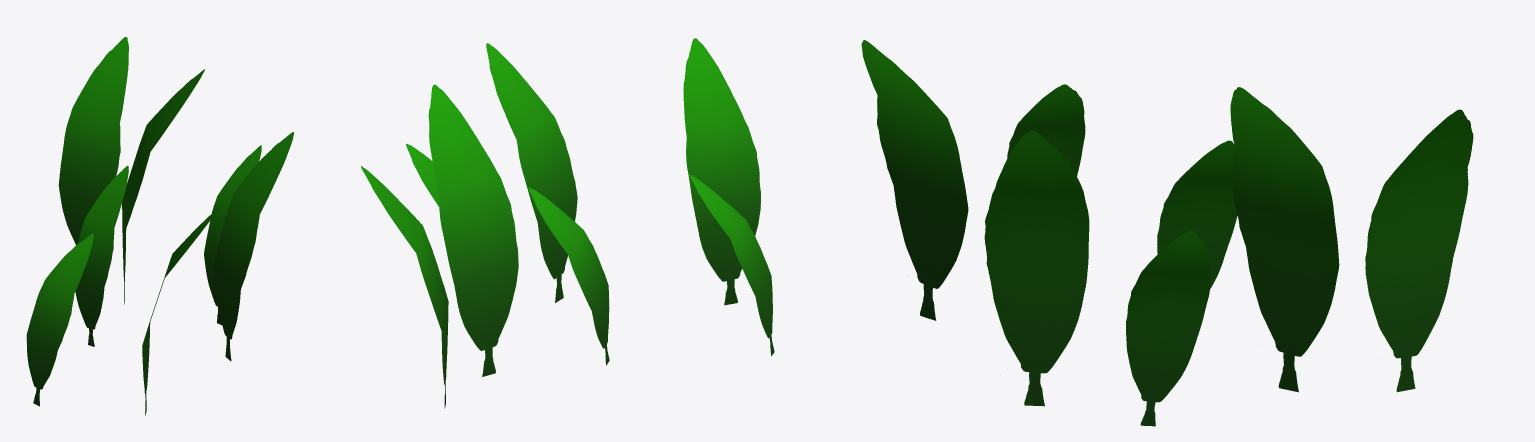
File: flower_F.fbx
The picture shows the model from 3 angles, left to right: view 1: azimuth 30°, elevation 25°; view 2: azimuth 150°, elevation 25°; view 3: azimuth 270°, elevation 25°; orthographic projection. The views are drawn at different scales.
Visible parts, largest first — view 1: flowerF; view 2: flowerF; view 3: flowerF.
Part boxes in pixels (<box>): flowerF: <box>26,37,293,415</box>; flowerF: <box>361,38,774,408</box>; flowerF: <box>861,40,1473,426</box>.
Size of the model in its own units: 39.14 by 31.36 by 54.39.
